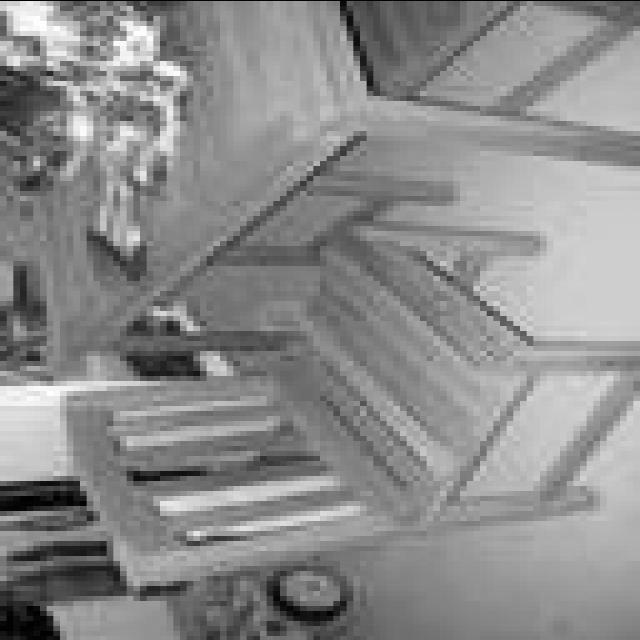chair: (58, 220, 638, 589)
